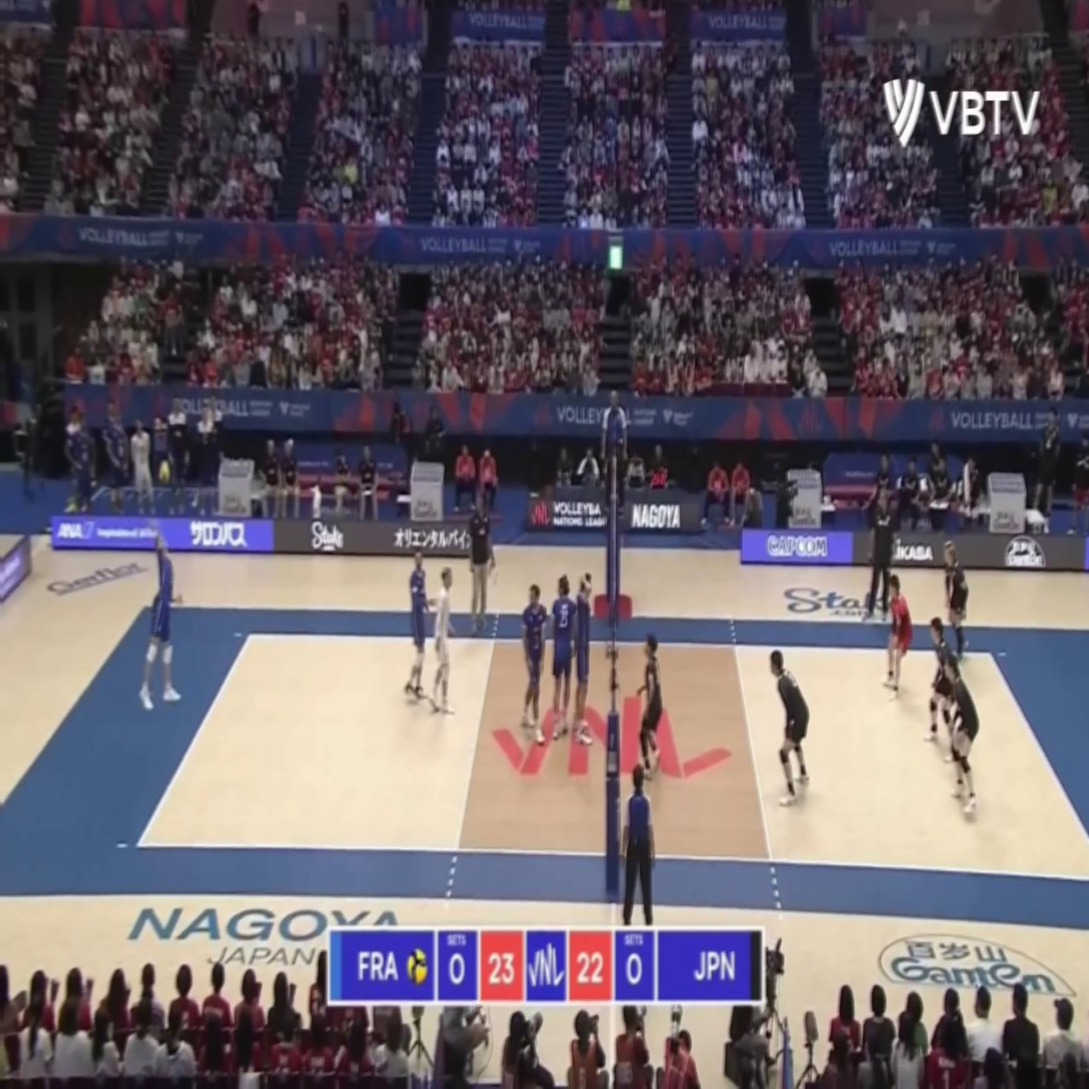ball: (156, 461, 170, 484)
